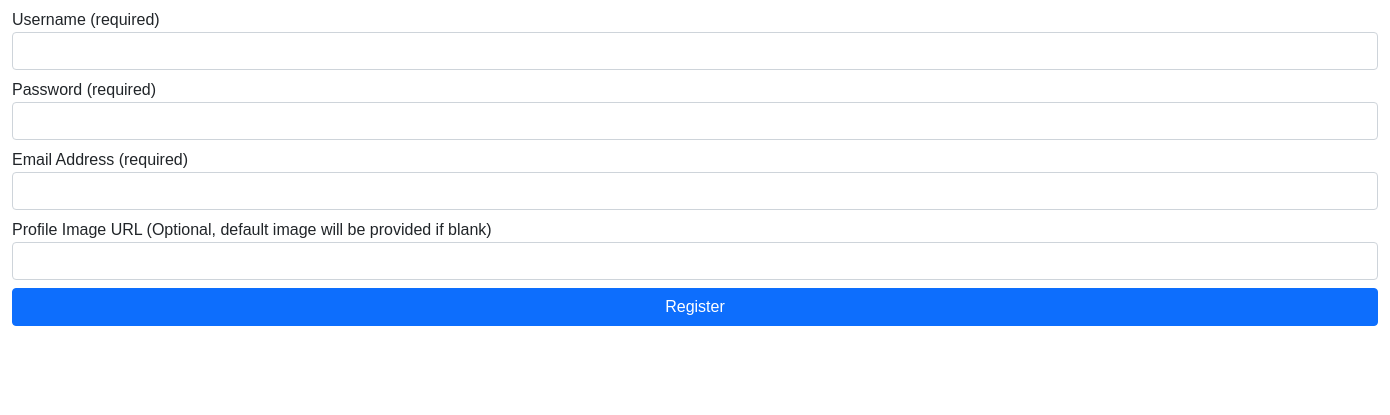
Test: RegisterForm › Shows error if name is longer than 25 characters
The image size is (1390, 415).
// Shows error on submit because current input is invalid
In the field labelled "Username (required)": (695, 51) [12, 32, 1378, 70], type "dsskdjfskjdfhkjsdfkjkjsfsdsas"
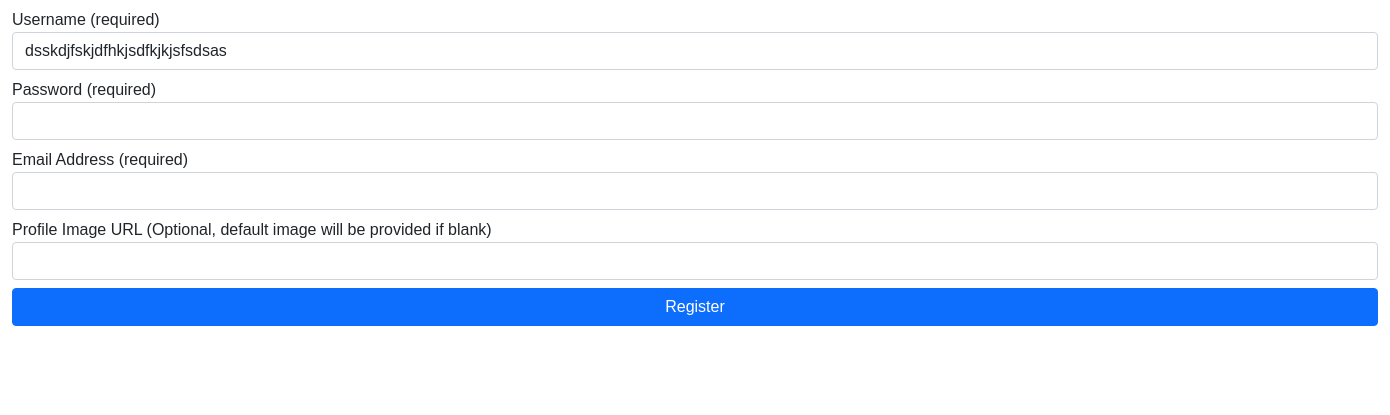
Click the button "Register": (695, 307) [12, 288, 1378, 326]
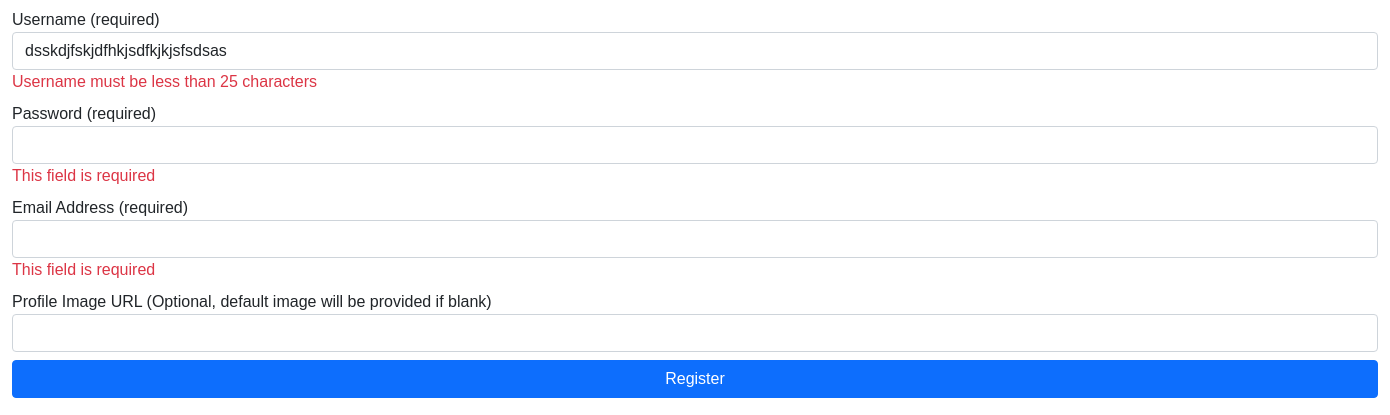
Now the text "Username must be less than 25 characters" is shown, box [12, 73, 317, 90]
